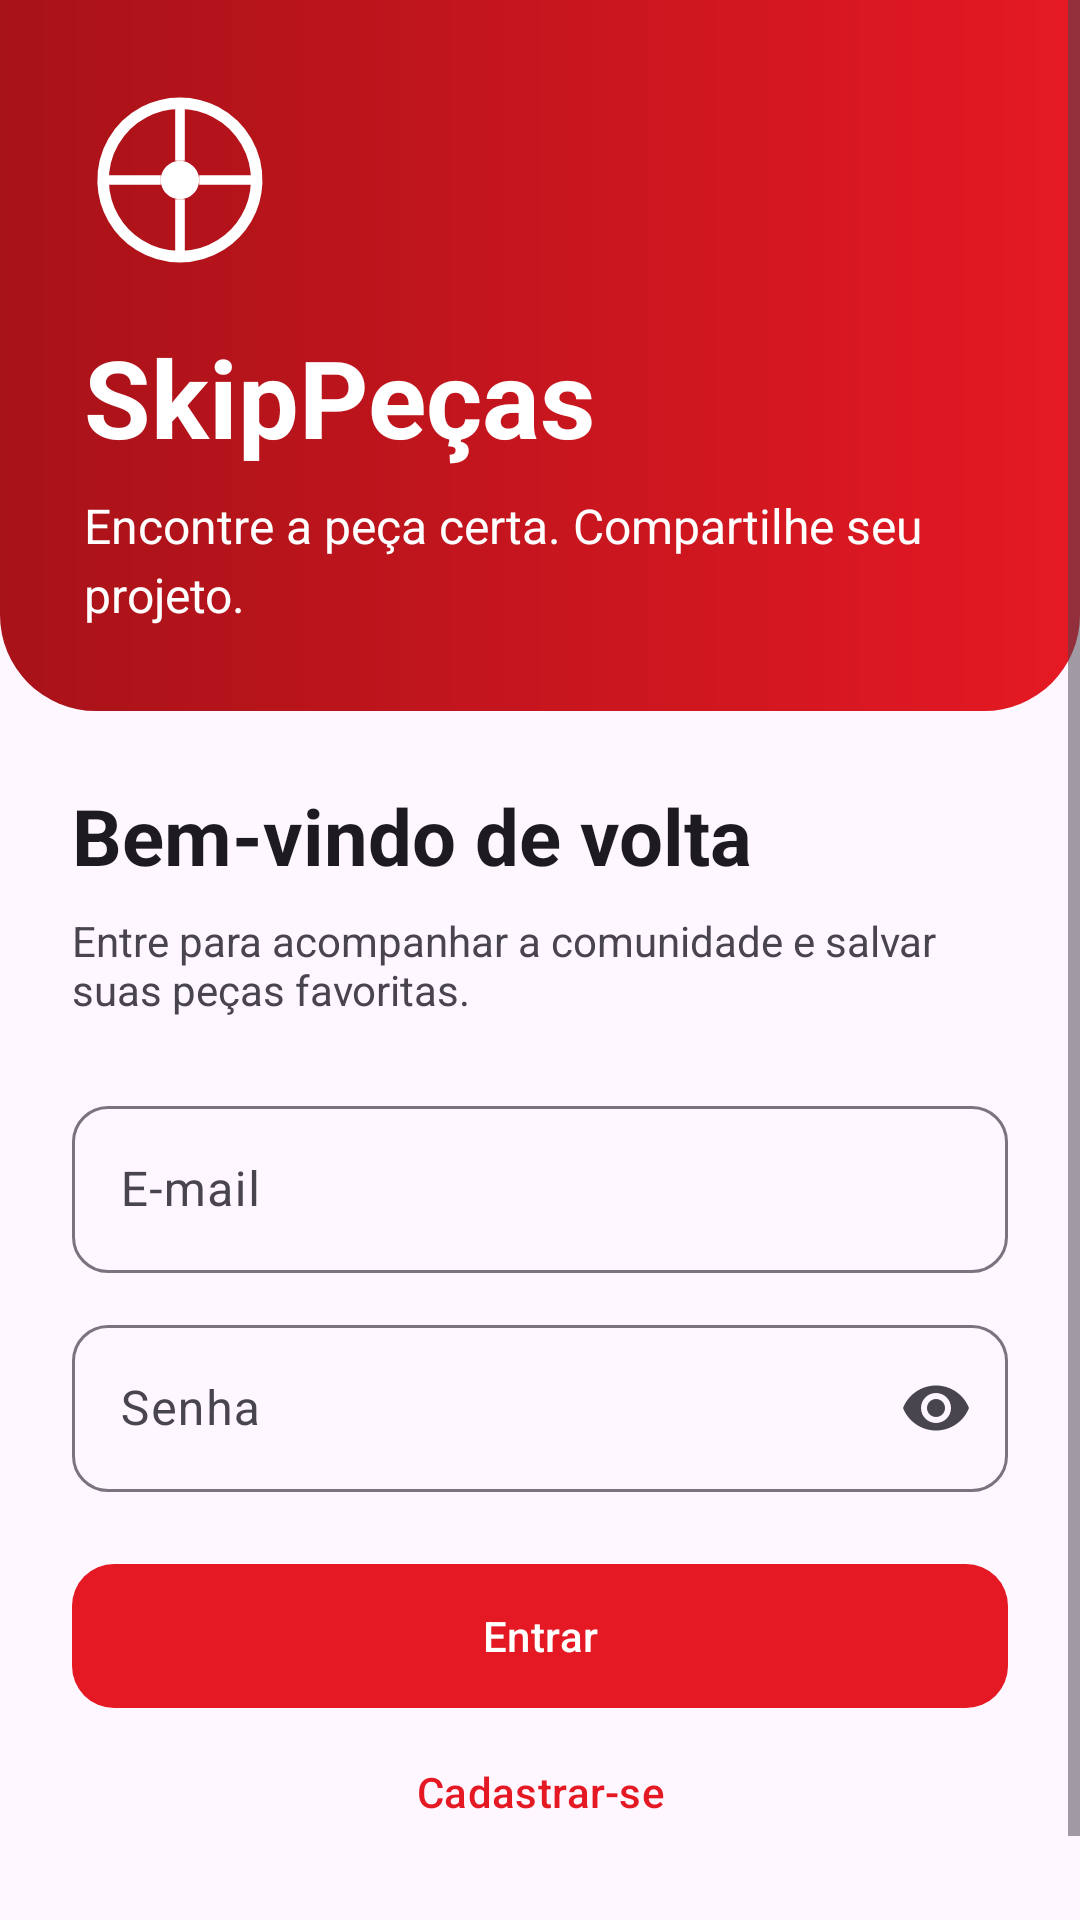

Screen size 1080px×1920px. Icon name, then its center in pixels as (x,y):
wheel rim: (180,180)
